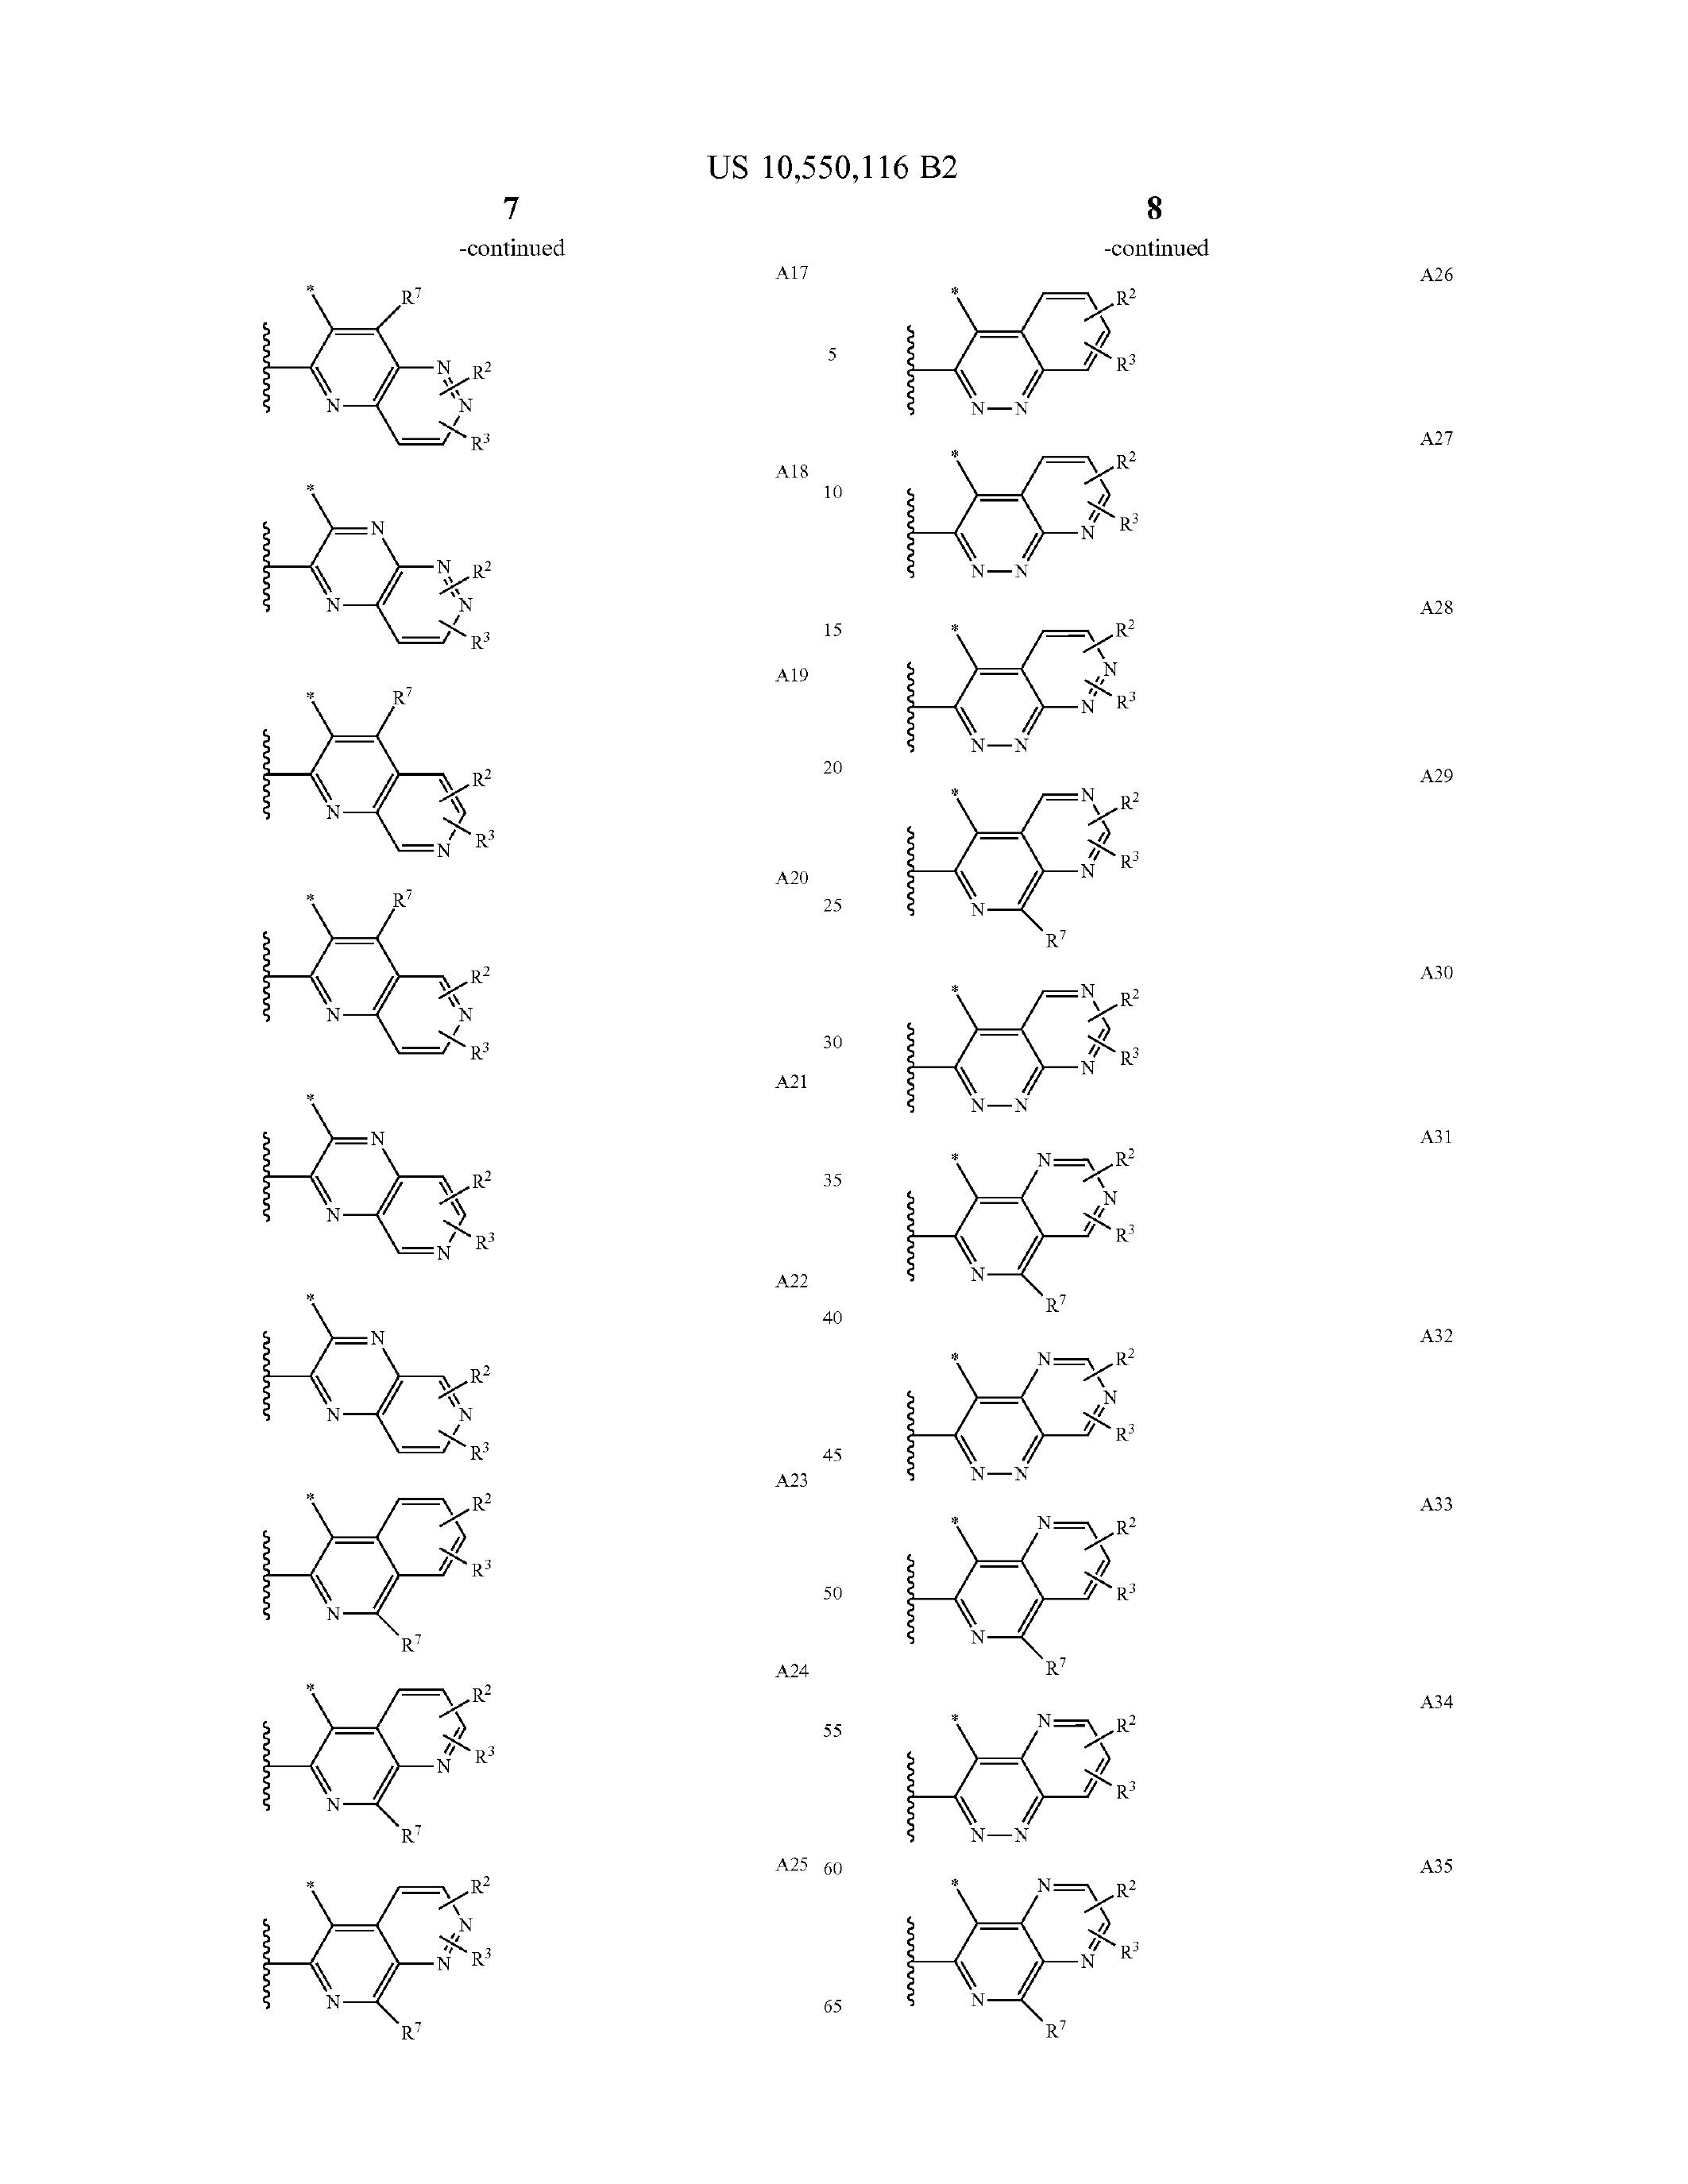intermediates: (881, 1702, 1170, 2053)
